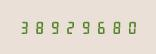eight: (32, 20, 46, 34), (107, 20, 121, 34)
nine: (47, 20, 61, 34), (77, 20, 91, 34)
six: (92, 20, 106, 34)
three: (17, 20, 31, 34)
two: (62, 20, 76, 34)
zero: (122, 20, 136, 34)
